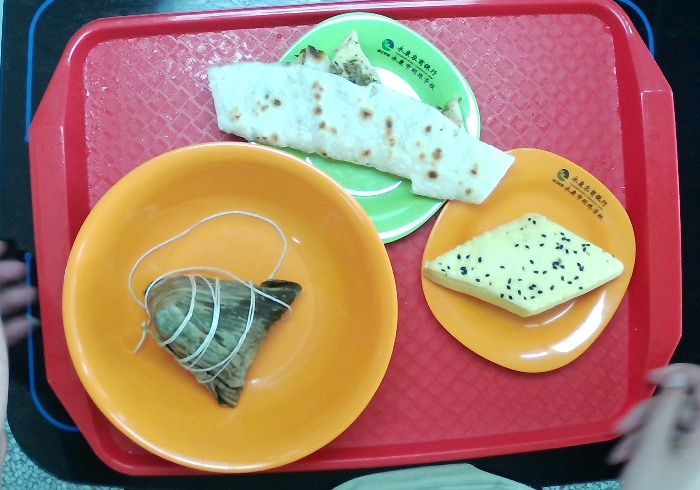YKMZ-Ju_Se_Fang_Die: (418, 144, 644, 382)
YKMZ-Ju_Se_Tang_Wan: (53, 136, 405, 476)
YKMZ-Lv_Se_Fang_Die: (254, 9, 490, 250)
